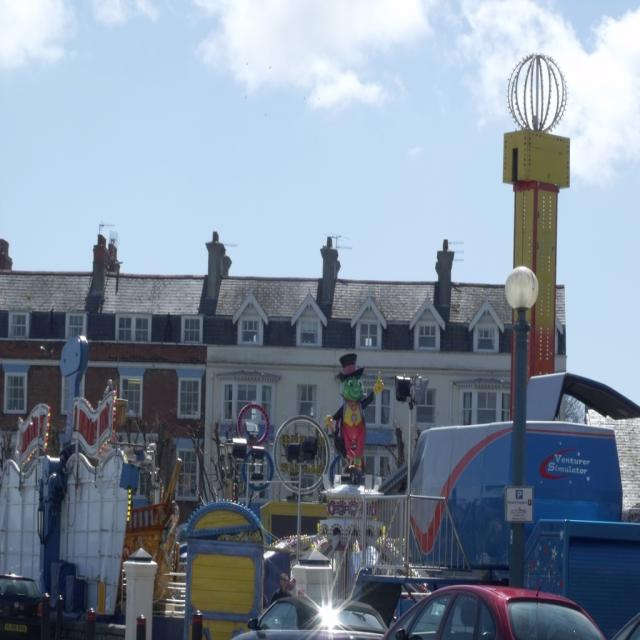car: (366, 572, 590, 638)
